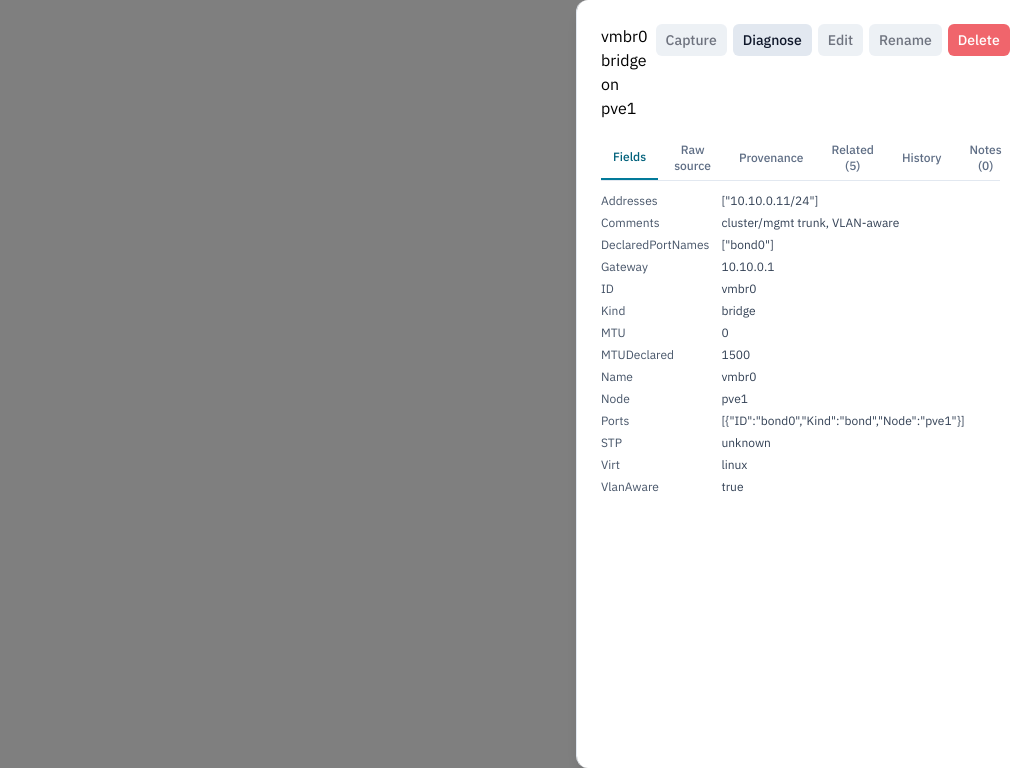
Test: InspectorPanel › renders one raw-source section per source on the Raw source tab
Check: the text "STP" is shown, box [601, 435, 622, 450]
Click the tab "Raw source": (693, 158) [662, 136, 723, 180]
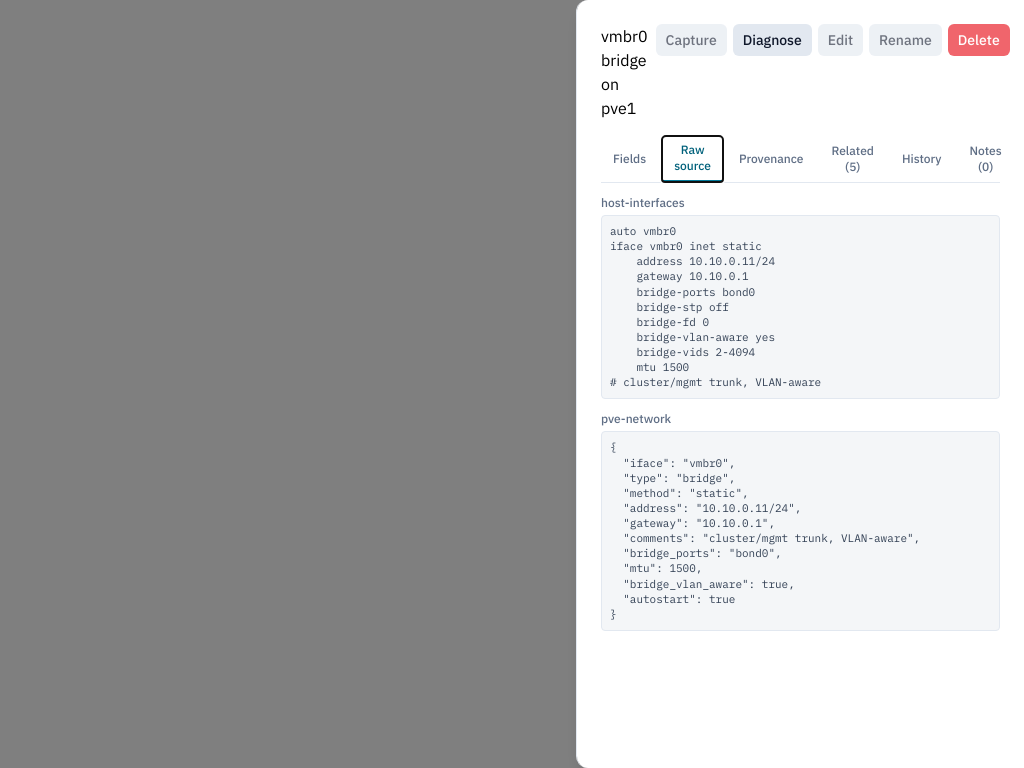
Check: the heading "host-interfaces" is shown, box [601, 195, 685, 210]
Check: the text "iface vmbr0 inet static" is shown, box [610, 224, 821, 389]
Check: the heading "pve-network" is shown, box [601, 411, 671, 426]
